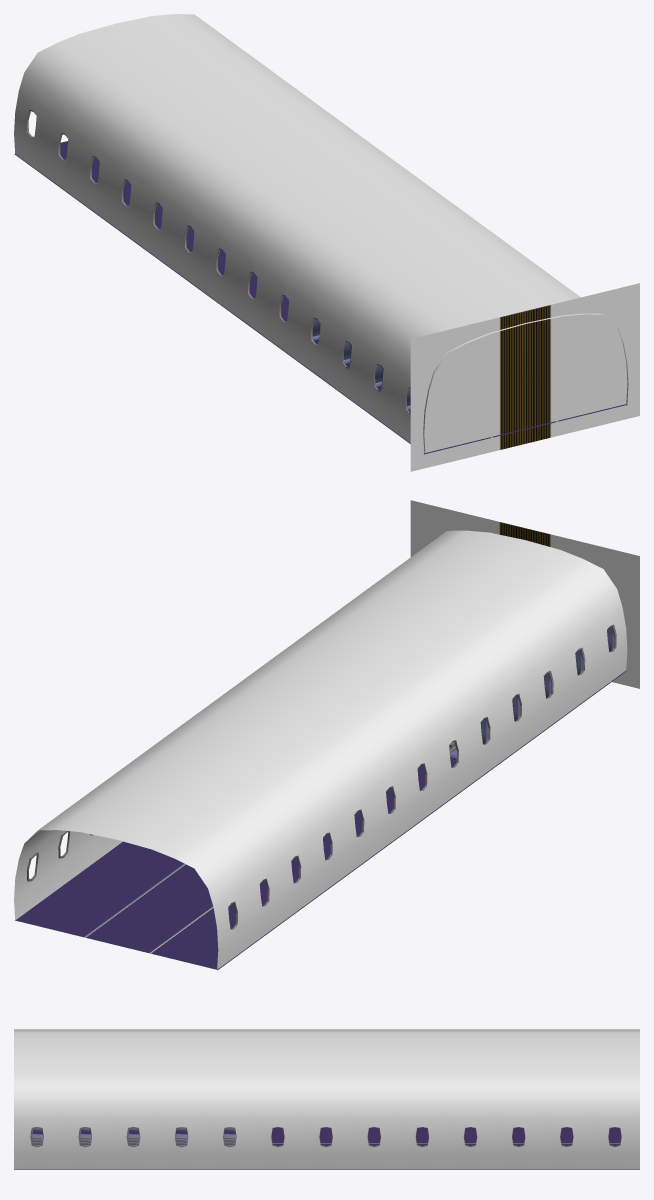
Rendered from AVION.fbx.
3 renders of one model, top to bottom at view 1: azimuth 30°, elevation 25°; view 2: azimuth 150°, elevation 25°; view 3: azimuth 270°, elevation 25°, orthographic. The views are drawn at different scales.
Visible parts, largest first — view 1: Cube.166, Cube.033, Cube.116, Cube.084, Cube.027; view 2: Cube.166, Cube.116, Cube.084, Cube.027, Cube.033; view 3: Cube.166, Cube.116, Cube.084, Cube.027.
Part boxes in pixels (x1,y1,x2,y2): Cube.166: [14, 14, 509, 384]; Cube.033: [410, 283, 639, 471]; Cube.116: [329, 245, 541, 407]; Cube.084: [361, 268, 572, 430]; Cube.027: [392, 291, 628, 454]; Cube.166: [14, 599, 533, 970]; Cube.116: [354, 576, 565, 738]; Cube.084: [385, 553, 596, 715]; Cube.027: [417, 530, 627, 692]; Cube.033: [410, 500, 639, 688]; Cube.166: [158, 1029, 639, 1169]; Cube.116: [110, 1029, 158, 1169]; Cube.084: [62, 1029, 110, 1169]; Cube.027: [14, 1029, 61, 1169].
Size of the model in its own units: 289 by 160 by 894.
3 materials, 3 textured.
